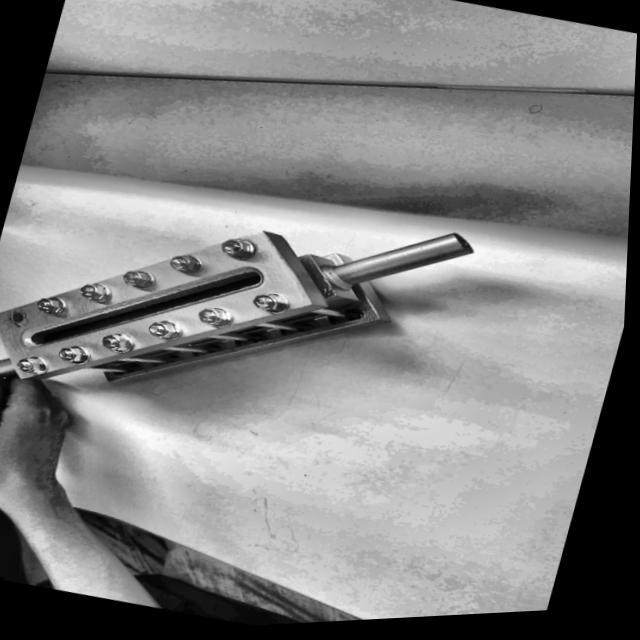ShuiWeiQi_11: (0, 147, 487, 484)
